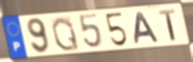5: (77, 12, 104, 51), (104, 11, 128, 48)
9: (26, 17, 52, 56)
A: (134, 11, 161, 45)
Q: (50, 16, 82, 53)
T: (157, 8, 177, 42)
